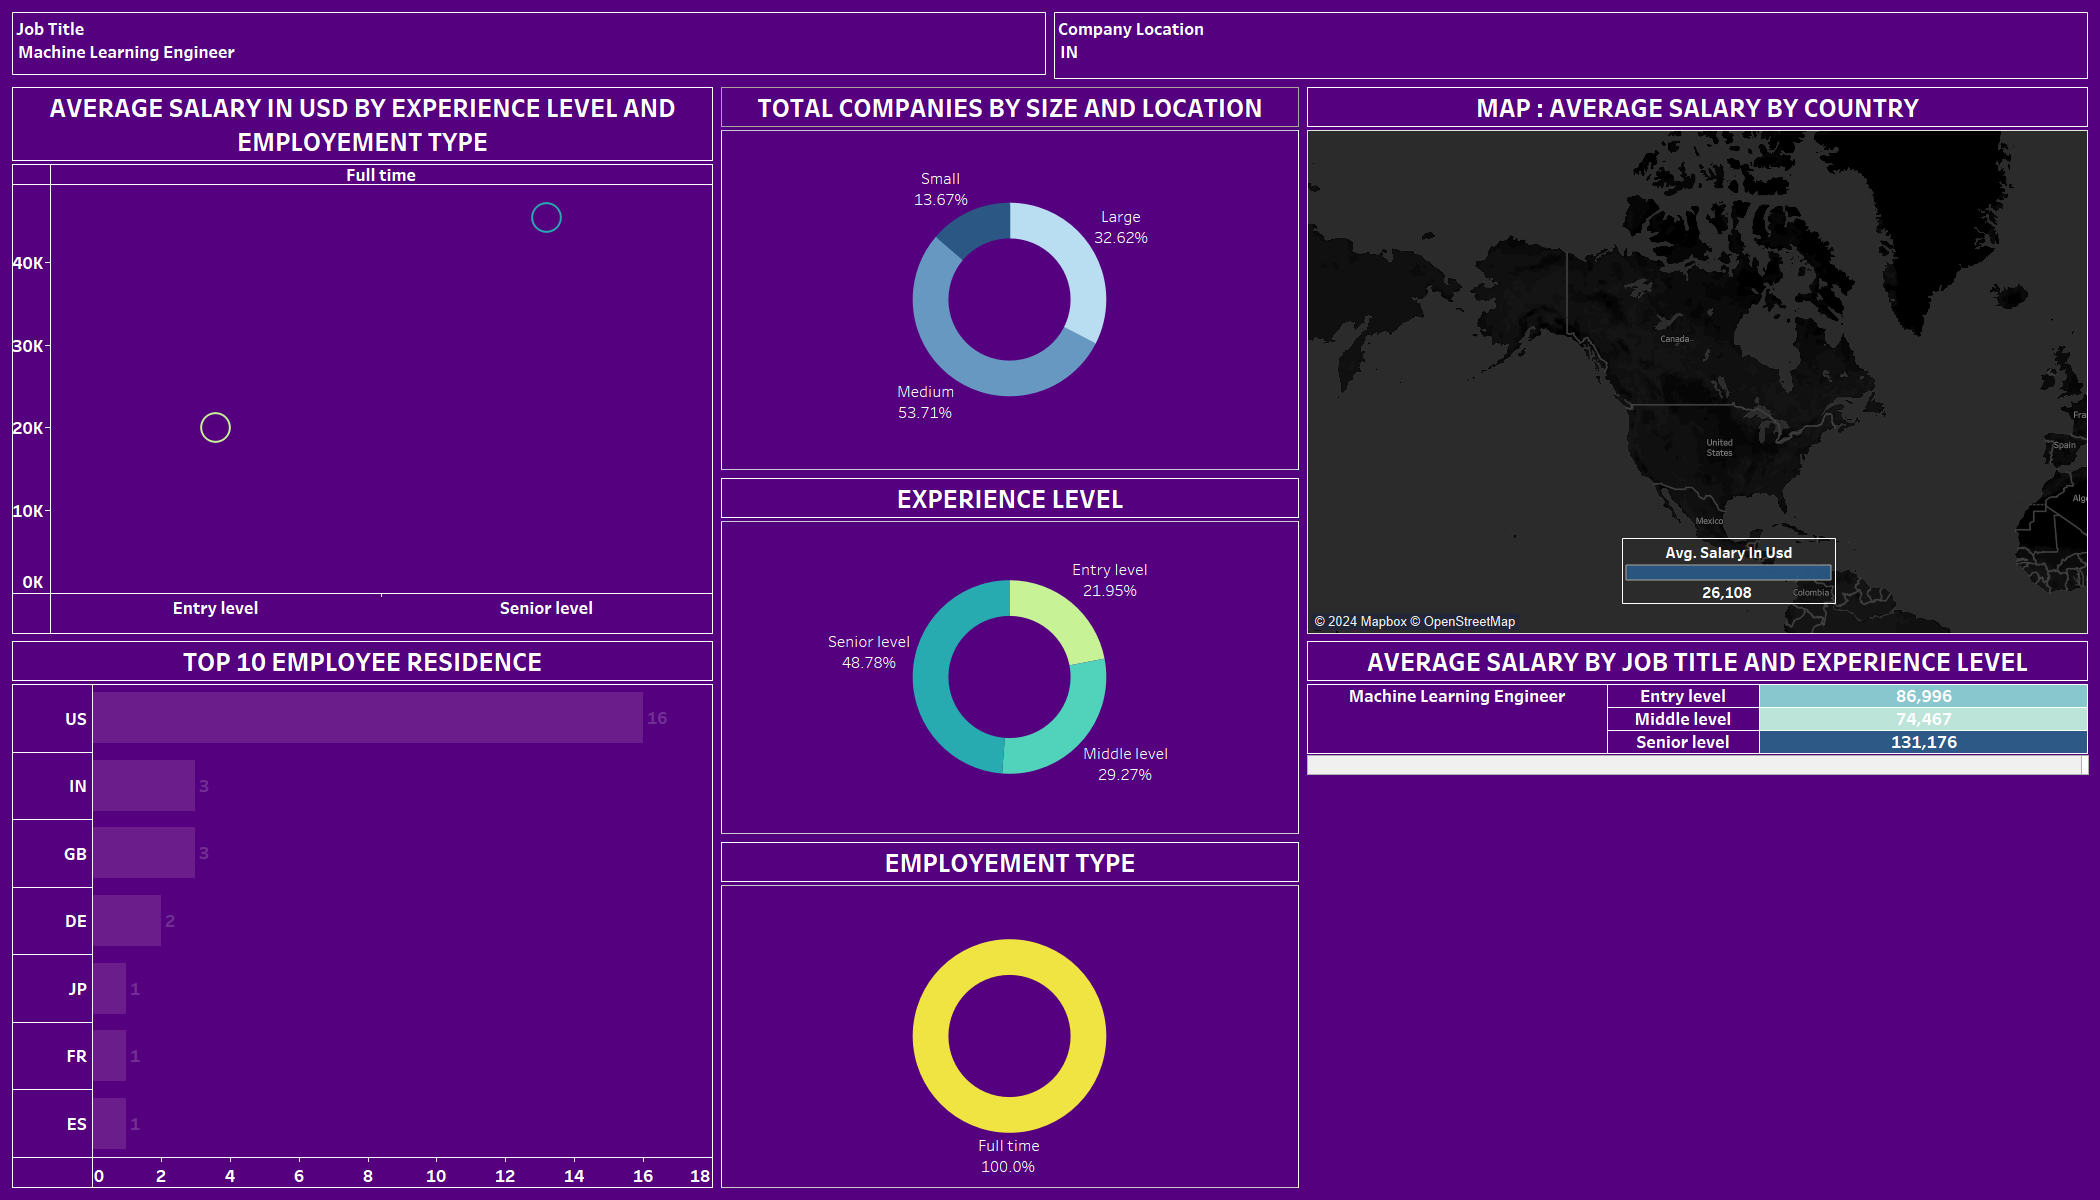

Layout of this report page (visuals, bound fields, positions):
{"tool":"tableau","page":{"name":"Dashboard 1","canvas":[2100,1200],"ordinal":0},"visuals":[{"type":"filter","title":"AVERAGE SALARY IN USD BY EXPERIENCE LEVEL AND EMPLOYEMENT TYPE","param":"[federated.18qjr991hgh87i1df9q1g0aa2dt3].[none:job_title:nk]","box":[8,8,1042,71]},{"type":"filter","title":"AVERAGE SALARY IN USD BY EXPERIENCE LEVEL AND EMPLOYEMENT TYPE","param":"[federated.18qjr991hgh87i1df9q1g0aa2dt3].[none:company_location:nk]","box":[1050,8,1042,75]},{"type":"worksheet","title":"AVERAGE SALARY IN USD BY EXPERIENCE LEVEL AND EMPLOYEMENT TYPE","mark":"Shape","rows":["salary_in_usd"],"cols":["employment_type","experience_level"],"box":[8,83,709,554.5]},{"type":"worksheet","title":"TOTAL COMPANIES BY SIZE AND LOCATION","mark":"Pie","rows":["Calculation_1194016874075459585","Calculation_1194016874075459585"],"box":[717,83,586,391]},{"type":"worksheet","title":"MAP : AVERAGE SALARY BY COUNTRY","mark":"Automatic","box":[1303,83,789,554.5]},{"type":"worksheet","title":"EXPERIENCE LEVEL","mark":"Pie","rows":["Calculation_1194016874075459585","Calculation_1194016874075459585"],"box":[717,474,586,364]},{"type":"legend","title":"MAP : AVERAGE SALARY BY COUNTRY","param":"[federated.18qjr991hgh87i1df9q1g0aa2dt3].[avg:salary_in_usd:qk]","box":[1622,538,214,88]},{"type":"worksheet","title":"TOP 10 EMPLOYEE RESIDENCE","mark":"Automatic","rows":["employee_residence"],"cols":["employee_residence"],"box":[8,637.5,709,554.5]},{"type":"worksheet","title":"AVERAGE SALARY BY JOB TITLE AND EXPERIENCE LEVEL","mark":"Square","rows":["job_title","experience_level"],"box":[1303,637.5,789,554.5]},{"type":"worksheet","title":"EMPLOYEMENT TYPE","mark":"Pie","rows":["Calculation_1194016874075459585","Calculation_1194016874075459585"],"box":[717,838,586,354]}]}

Visuals, with their boxes in screenshot pixels (x1, y1, x2, y2), scaled from the page's 2100x1200 canvas onto the 2100x1200 screenshot:
"AVERAGE SALARY IN USD BY EXPERIENCE LEVEL AND EMPLOYEMENT TYPE" filter: 8:8:1050:79
"AVERAGE SALARY IN USD BY EXPERIENCE LEVEL AND EMPLOYEMENT TYPE" filter: 1050:8:2092:83
"AVERAGE SALARY IN USD BY EXPERIENCE LEVEL AND EMPLOYEMENT TYPE" worksheet (Shape marks): 8:83:717:638
"TOTAL COMPANIES BY SIZE AND LOCATION" worksheet (Pie marks): 717:83:1303:474
"MAP : AVERAGE SALARY BY COUNTRY" worksheet: 1303:83:2092:638
"EXPERIENCE LEVEL" worksheet (Pie marks): 717:474:1303:838
"MAP : AVERAGE SALARY BY COUNTRY" legend: 1622:538:1836:626
"TOP 10 EMPLOYEE RESIDENCE" worksheet: 8:638:717:1192
"AVERAGE SALARY BY JOB TITLE AND EXPERIENCE LEVEL" worksheet (Square marks): 1303:638:2092:1192
"EMPLOYEMENT TYPE" worksheet (Pie marks): 717:838:1303:1192
